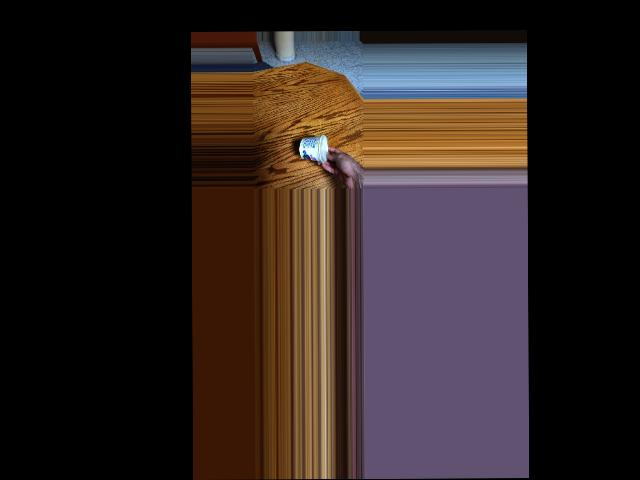cotage: (300, 129, 327, 157)
